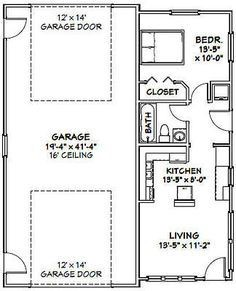door: (2, 16, 32, 41), (205, 107, 232, 133), (165, 102, 194, 125), (202, 255, 229, 279), (191, 76, 213, 103), (3, 253, 28, 274)
room: (4, 10, 139, 285), (135, 11, 235, 148), (135, 145, 231, 281)
wall: (132, 4, 142, 288), (2, 38, 9, 135), (2, 157, 8, 252), (136, 139, 190, 148), (135, 97, 191, 105), (228, 60, 235, 110), (184, 119, 192, 161), (198, 8, 233, 17), (110, 280, 141, 289), (4, 281, 32, 290), (228, 132, 235, 168), (207, 77, 230, 87), (114, 1, 141, 9), (227, 7, 235, 32), (228, 185, 235, 210), (2, 1, 9, 17), (141, 198, 157, 205), (2, 274, 9, 288)
window: (225, 210, 236, 271), (147, 274, 198, 282), (225, 32, 236, 60), (170, 9, 199, 18), (2, 135, 10, 157), (226, 166, 236, 183)
